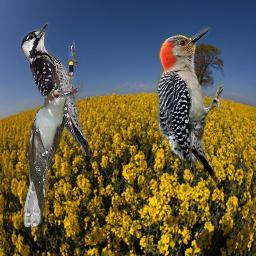Cuckoo: (22, 88, 74, 227)
Woodpecker: (151, 24, 223, 198), (20, 22, 90, 156)
